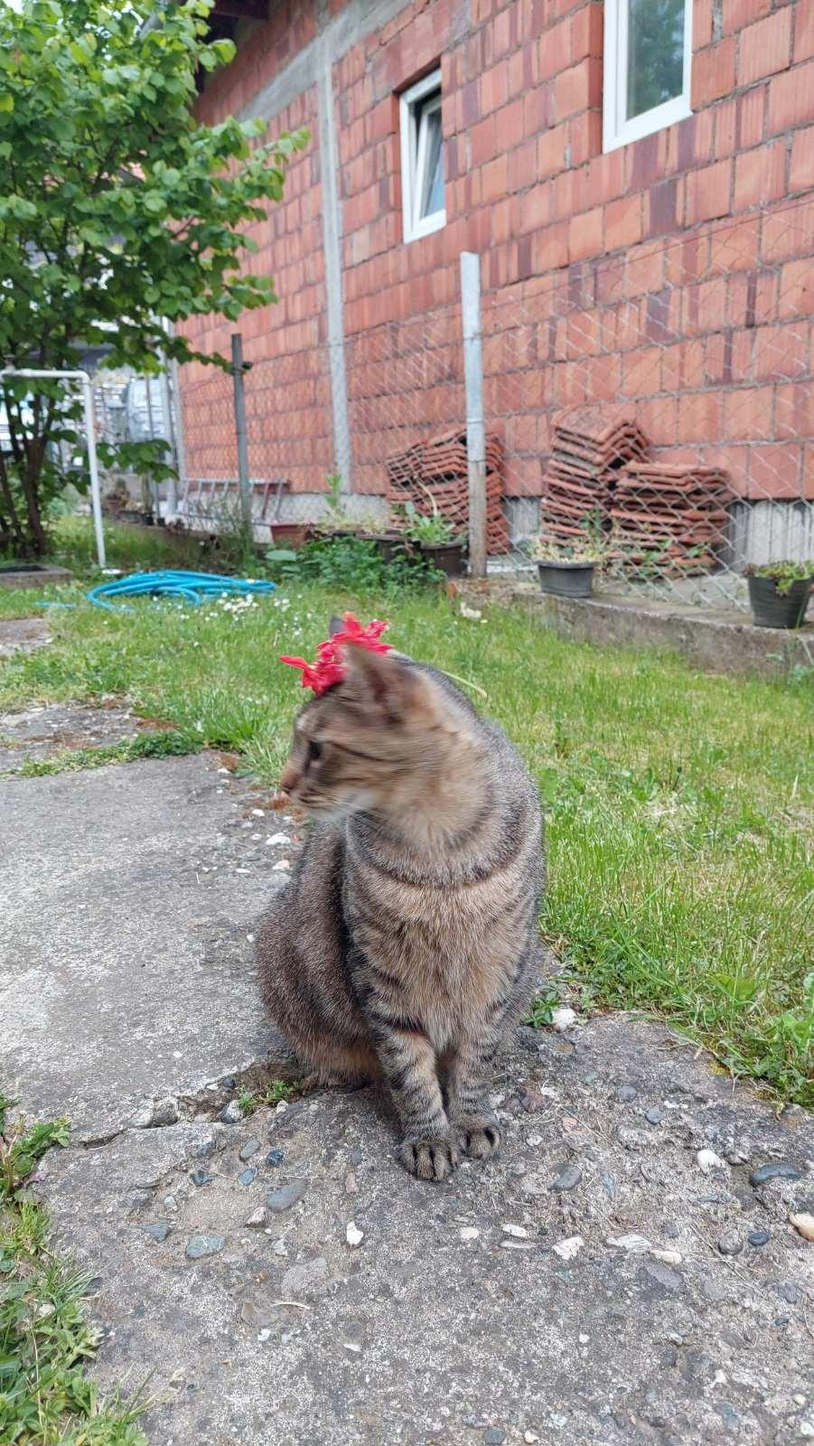macka: (253, 632, 554, 1186)
